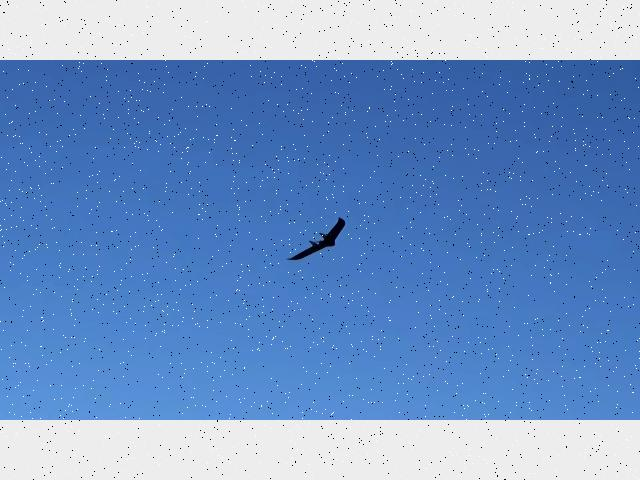Anti-Drone: (276, 211, 352, 269)
